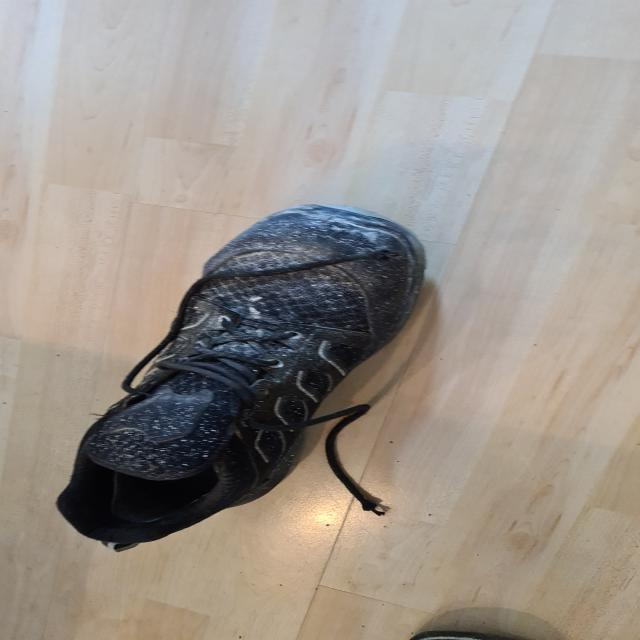shoe: (51, 201, 433, 555)
